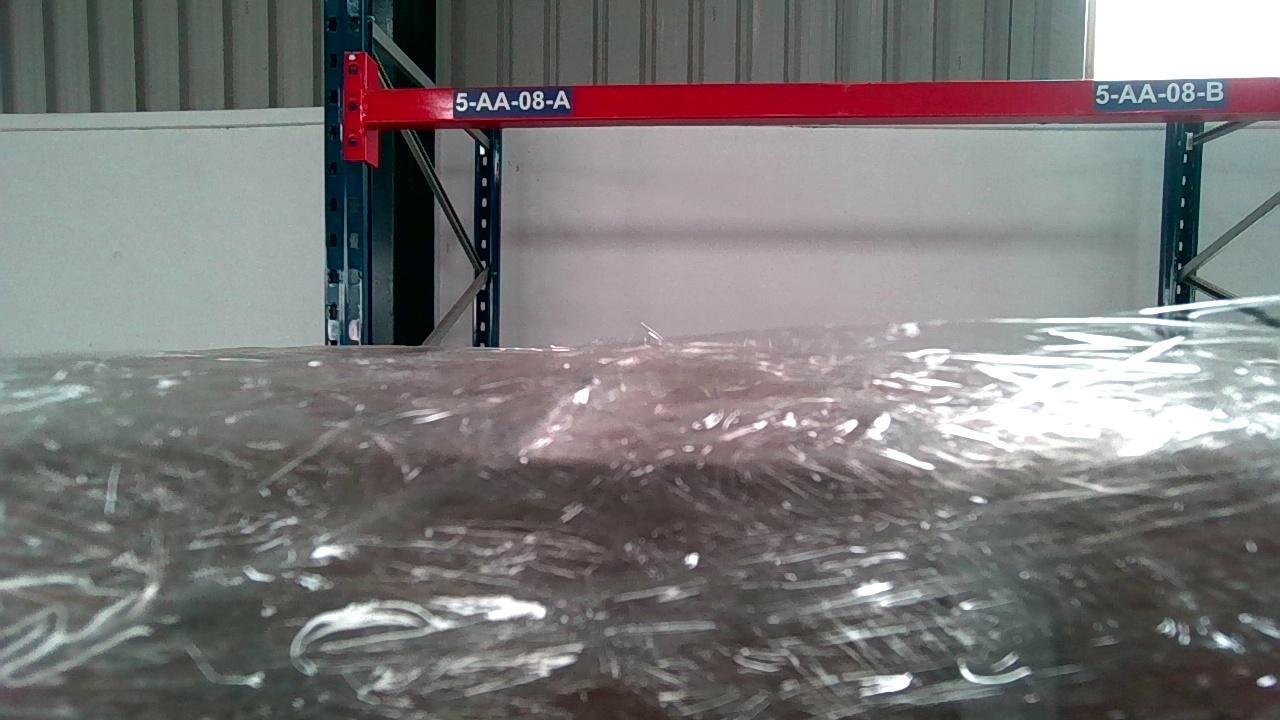h_rack: (369, 74, 1275, 117)
